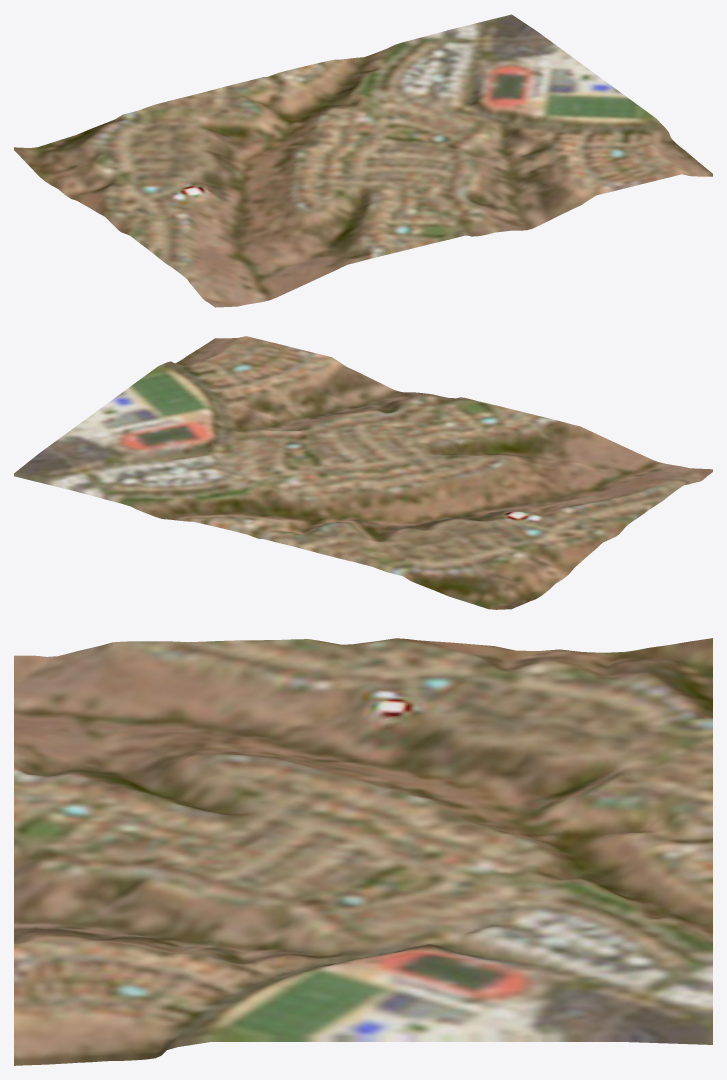
File: terrain_r4_c3_lod1.glb
The picture shows the model from 3 angles, top to bottom: view 1: azimuth 30°, elevation 25°; view 2: azimuth 150°, elevation 25°; view 3: azimuth 270°, elevation 25°; orthographic projection. The views are drawn at different scales.
Visible parts, largest first — view 1: terrain_r4_c3_lod1; view 2: terrain_r4_c3_lod1; view 3: terrain_r4_c3_lod1.
Part boxes in pixels (x1=…): terrain_r4_c3_lod1: x1=14, y1=14, x2=712, y2=307; terrain_r4_c3_lod1: x1=14, y1=336, x2=712, y2=609; terrain_r4_c3_lod1: x1=14, y1=638, x2=712, y2=1065.
Bounding box in the file's own units: 1125 × 69.49 × 787.
1 material, 1 textured.
